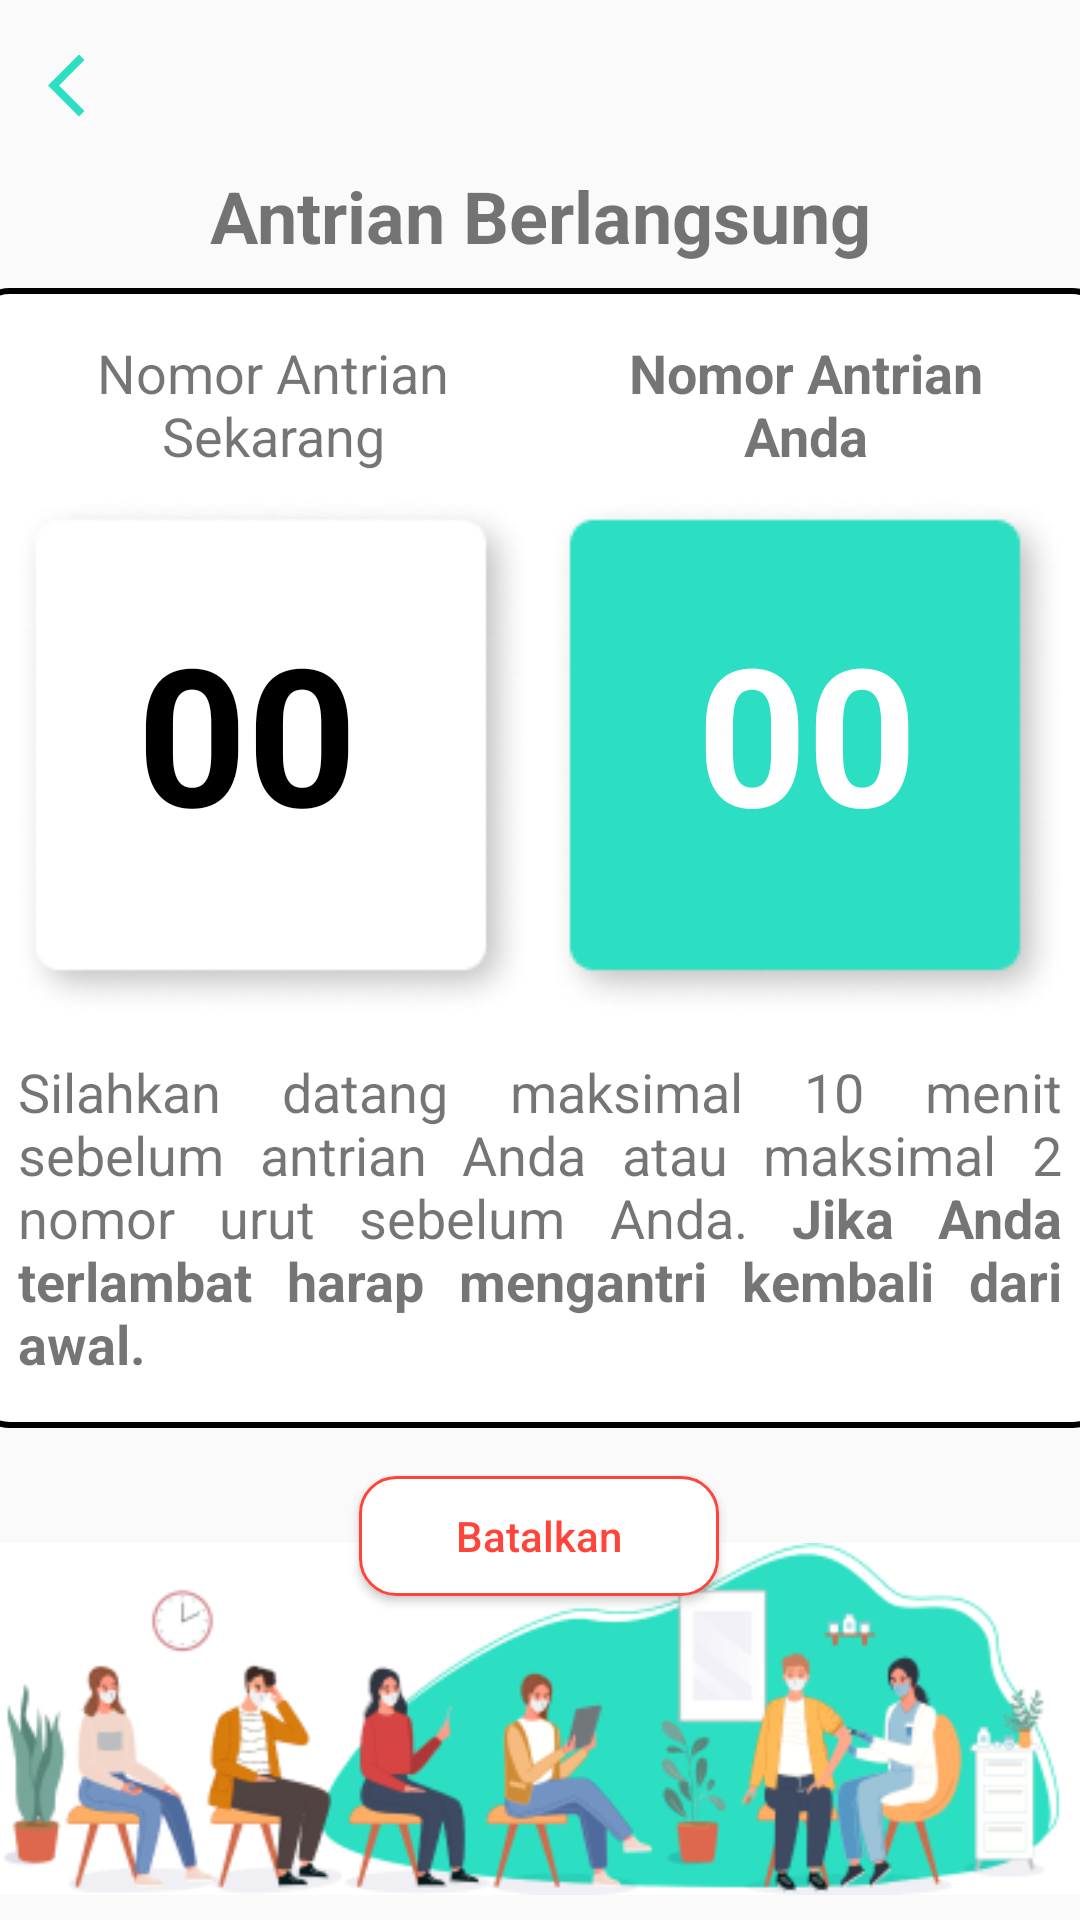

Point at icon controls on the screen. Image size 1080*1920, points as point (x, y).
arrow back: point (66, 85)
